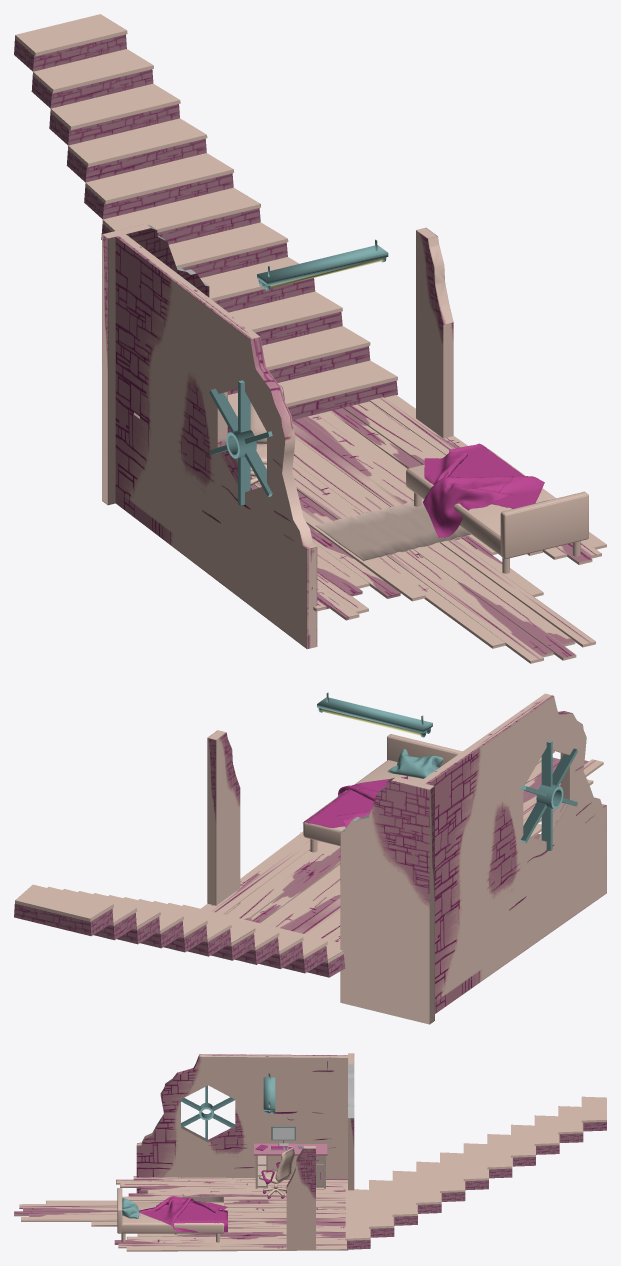
The model's file is sas.glb.
3 views of the same model, one above another, from view 1: azimuth 30°, elevation 25°; view 2: azimuth 150°, elevation 25°; view 3: azimuth 270°, elevation 25° (orthographic). The views are drawn at different scales.
Parts seen in each view (by area): view 1: tout.2; view 2: tout.2; view 3: tout.2.
Part boxes in pixels (left/top/right/bottom): tout.2: left=14, top=14, right=606, bottom=663; tout.2: left=14, top=692, right=606, bottom=1024; tout.2: left=14, top=1053, right=606, bottom=1251.
Bounding box in the file's own units: 4.13 × 3.57 × 13.24.
1 material, 1 textured.
